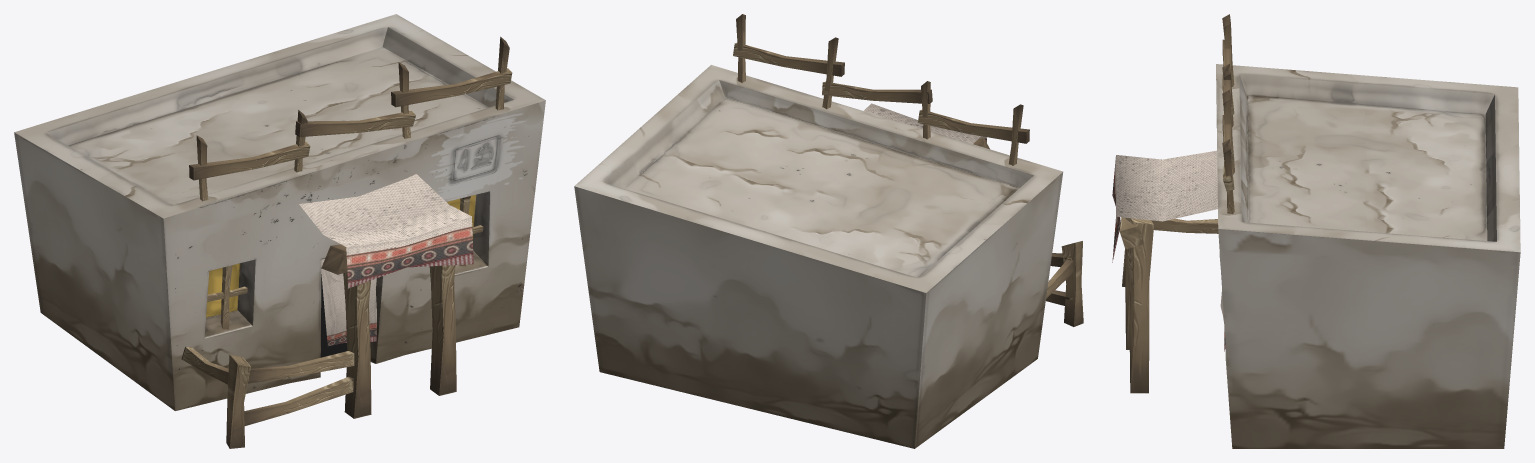
File: Egypt_Village_Buildings_02.FBX
3 renders of one model, left to right at view 1: azimuth 30°, elevation 25°; view 2: azimuth 150°, elevation 25°; view 3: azimuth 270°, elevation 25°, orthographic. The views are drawn at different scales.
Visible parts, largest first — view 1: Egypt_Village_Buildings_02; view 2: Egypt_Village_Buildings_02; view 3: Egypt_Village_Buildings_02.
Boxes of the visible parts, x1,y1,x2,y2 form: Egypt_Village_Buildings_02: (14,14,545,448); Egypt_Village_Buildings_02: (574,14,1083,448); Egypt_Village_Buildings_02: (1112,14,1520,448).
Size of the model in its own units: 664 by 495 by 605.
